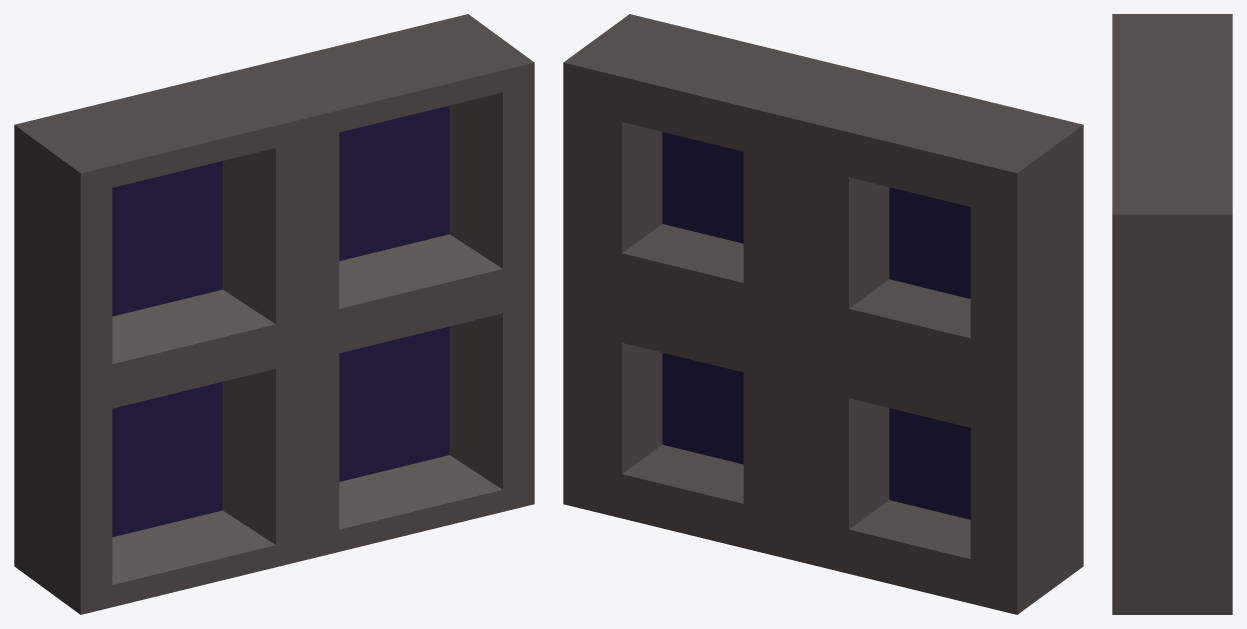
The model's file is okno.fbx.
3 renders of one model, left to right at view 1: azimuth 30°, elevation 25°; view 2: azimuth 150°, elevation 25°; view 3: azimuth 270°, elevation 25°, orthographic. The views are drawn at different scales.
Parts seen in each view (by area): view 1: Cube.022; view 2: Cube.022; view 3: Cube.022.
Part boxes in pixels (x1,y1,x2,y2): Cube.022: (14, 14, 534, 614); Cube.022: (563, 14, 1083, 614); Cube.022: (1112, 14, 1232, 614).
Size of the model in its own units: 853 by 793 by 216.
